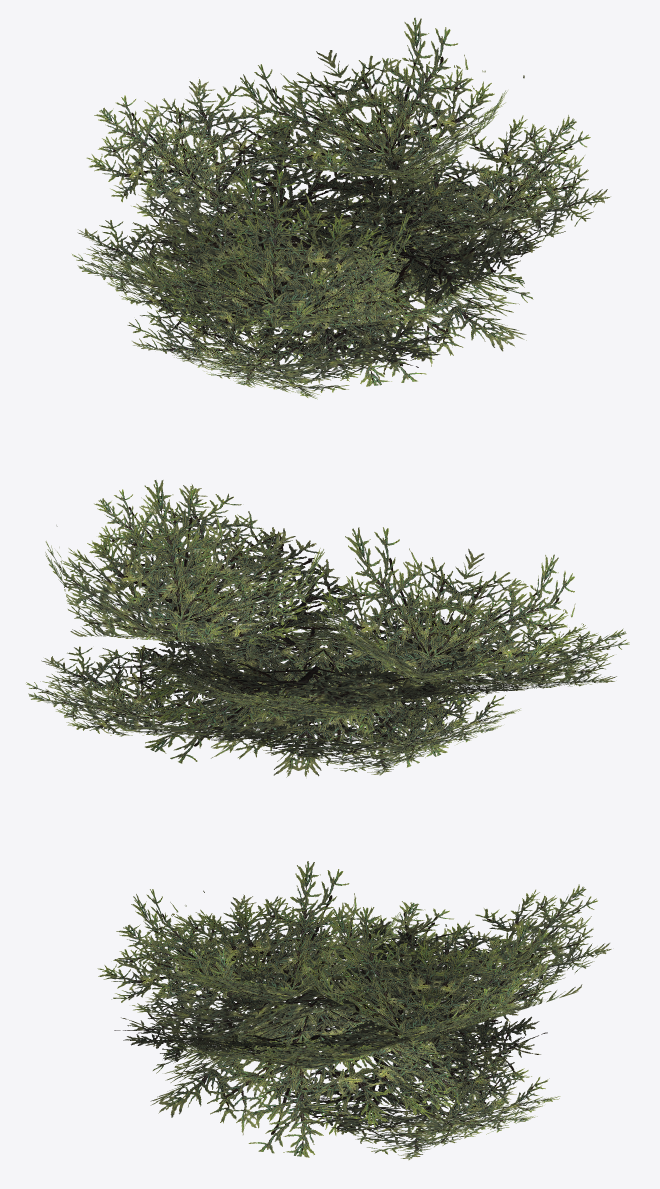
The model's file is juniper_prickly_bush_3.glb.
3 renders of one model, top to bottom at view 1: azimuth 30°, elevation 25°; view 2: azimuth 150°, elevation 25°; view 3: azimuth 270°, elevation 25°, orthographic. The views are drawn at different scales.
Visible parts, largest first — view 1: juniper_prickly_bush_3; view 2: juniper_prickly_bush_3; view 3: juniper_prickly_bush_3.
Boxes of the visible parts, x1=… form: juniper_prickly_bush_3: x1=72, y1=17, x2=610, y2=399; juniper_prickly_bush_3: x1=26, y1=480, x2=629, y2=777; juniper_prickly_bush_3: x1=97, y1=861, x2=611, y2=1160.
Size of the model in its own units: 7.94 by 2.61 by 7.93.
1 material, 1 textured.
